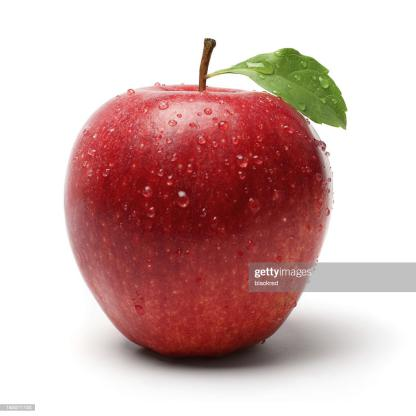Apple: (56, 48, 361, 366)
